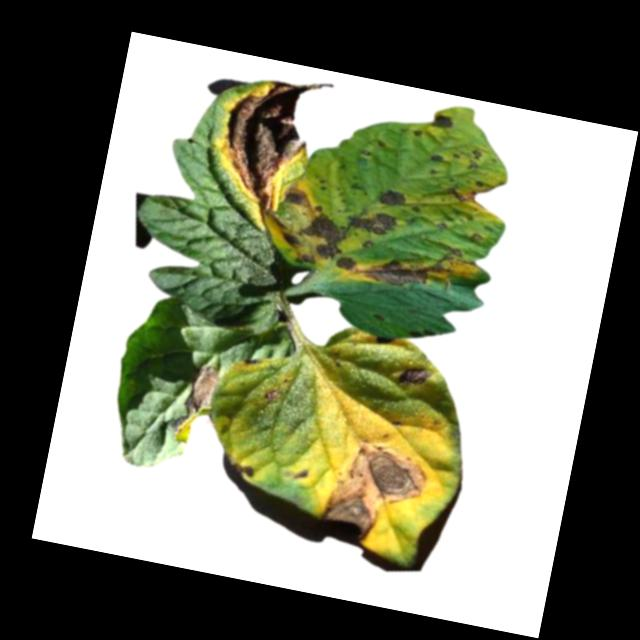Early_blight: (205, 60, 336, 218), (315, 429, 441, 553), (360, 232, 478, 301), (277, 200, 348, 272), (174, 359, 222, 448), (394, 358, 435, 396), (349, 204, 397, 235), (224, 449, 262, 478), (424, 107, 459, 132), (377, 182, 408, 210), (446, 182, 478, 204), (335, 250, 359, 275), (466, 146, 484, 171), (261, 384, 284, 403), (291, 465, 312, 482), (432, 149, 446, 164)
